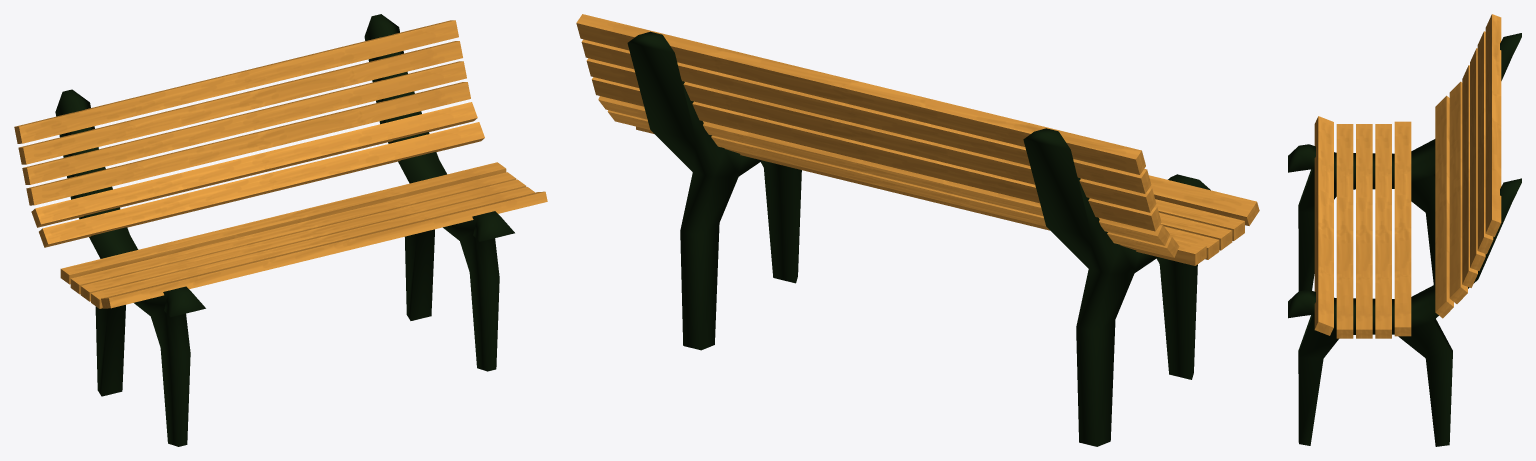
The model's file is bench.fbx.
The picture shows the model from 3 angles, left to right: view 1: azimuth 30°, elevation 25°; view 2: azimuth 150°, elevation 25°; view 3: azimuth 270°, elevation 25°; orthographic projection. The views are drawn at different scales.
Parts seen in each view (by area): view 1: bench:Mesh; view 2: bench:Mesh; view 3: bench:Mesh.
Part boxes in pixels (x1,y1,x2,y2): bench:Mesh: (14, 14, 547, 446); bench:Mesh: (576, 14, 1259, 446); bench:Mesh: (1288, 14, 1521, 446).
Size of the model in its own units: 4.24 by 2.51 by 2.04.
Materials: 1 (1 with a texture image).
